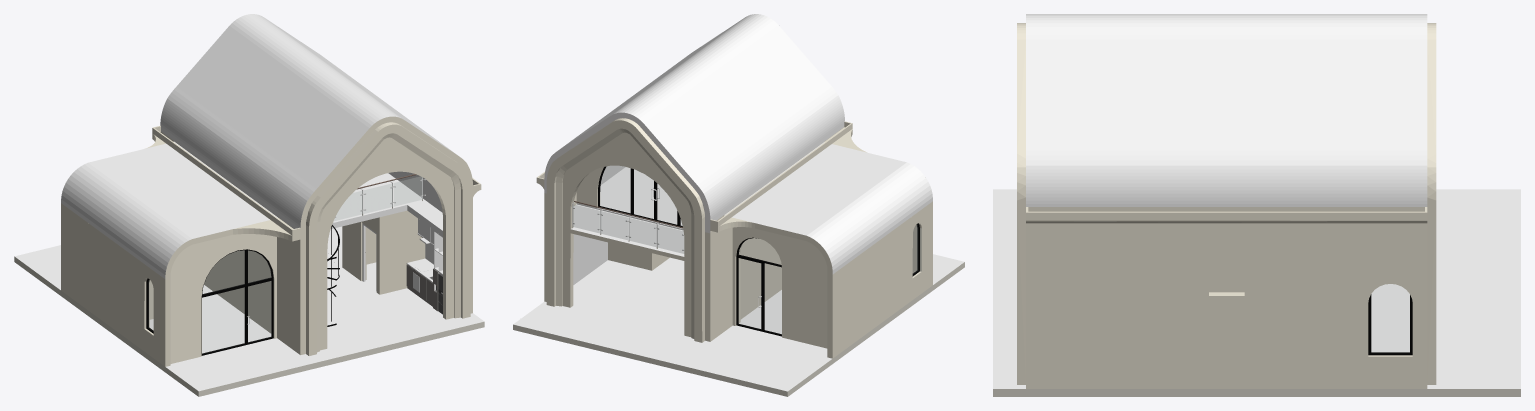
Rendered from villa-shell.glb.
3 views of the same model, side by side, from view 1: azimuth 30°, elevation 25°; view 2: azimuth 150°, elevation 25°; view 3: azimuth 270°, elevation 25° (orthographic). The views are drawn at different scales.
Visible parts, largest first — view 1: Villa geometry, Group geometry (×4), Assembly~20_Defintion geometry; view 2: Villa geometry, Group geometry (×3), Assembly~20_Defintion geometry; view 3: Villa geometry, Group geometry (×3), Assembly~20_Defintion geometry.
Boxes of the visible parts, x1,y1,x2,y2 form: Villa geometry: (15, 14, 483, 391); Group geometry (×4): (14, 116, 484, 396); Assembly~20_Defintion geometry: (146, 225, 339, 355); Villa geometry: (513, 14, 964, 391); Group geometry (×3): (513, 112, 964, 396); Assembly~20_Defintion geometry: (598, 166, 919, 336); Villa geometry: (993, 14, 1520, 388); Group geometry (×3): (993, 23, 1520, 396); Assembly~20_Defintion geometry: (1368, 294, 1412, 355).
Bounding box in the file's own units: 10.9 × 7.89 × 11.84.
